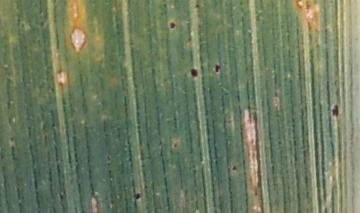tarspot: (331, 104, 340, 117), (190, 68, 199, 78), (168, 21, 177, 30), (213, 64, 222, 73), (231, 165, 238, 172), (135, 193, 141, 200), (172, 141, 178, 148), (195, 3, 200, 9)
